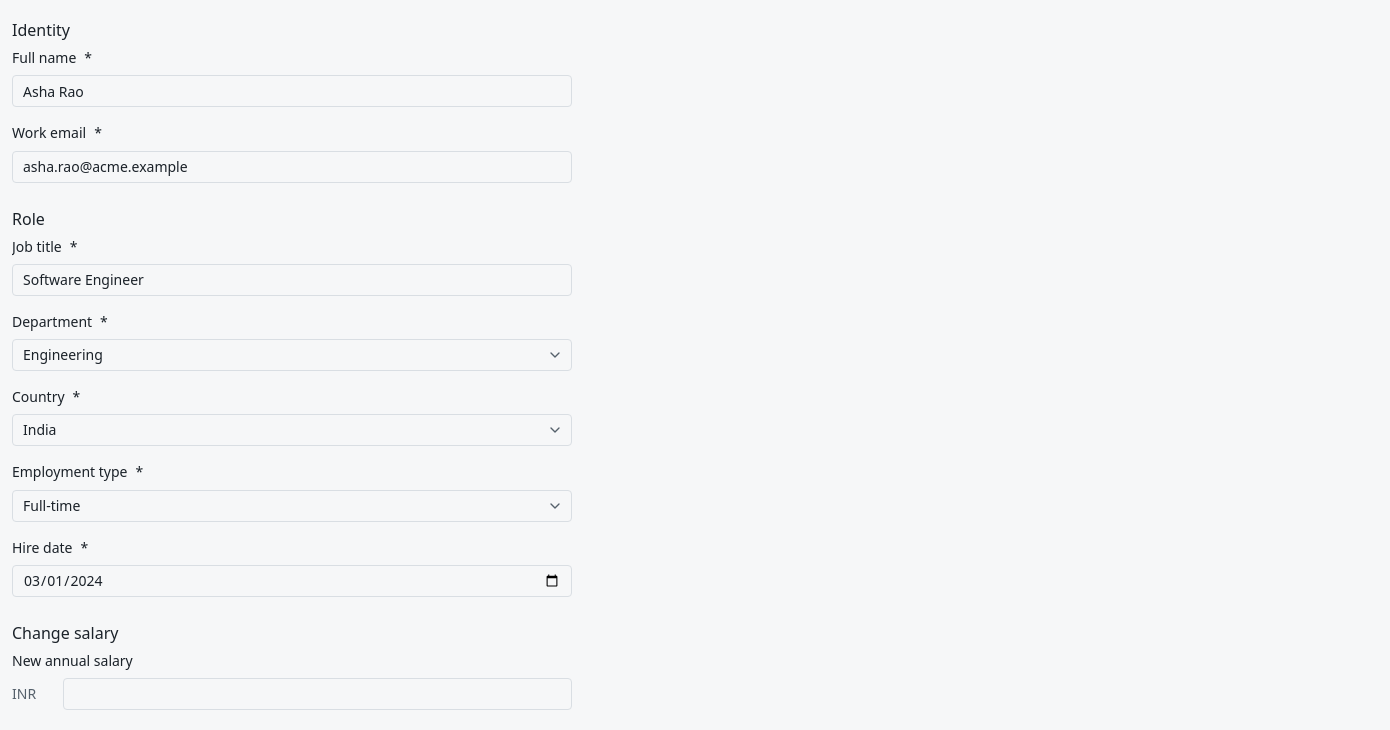
EditEmployeePage › sends only the changed fields and opens the employee on success
Replace the text in the field labelled "Job title *" with "Staff Engineer" at (292, 280), box [12, 264, 572, 296]
(page scrolled)
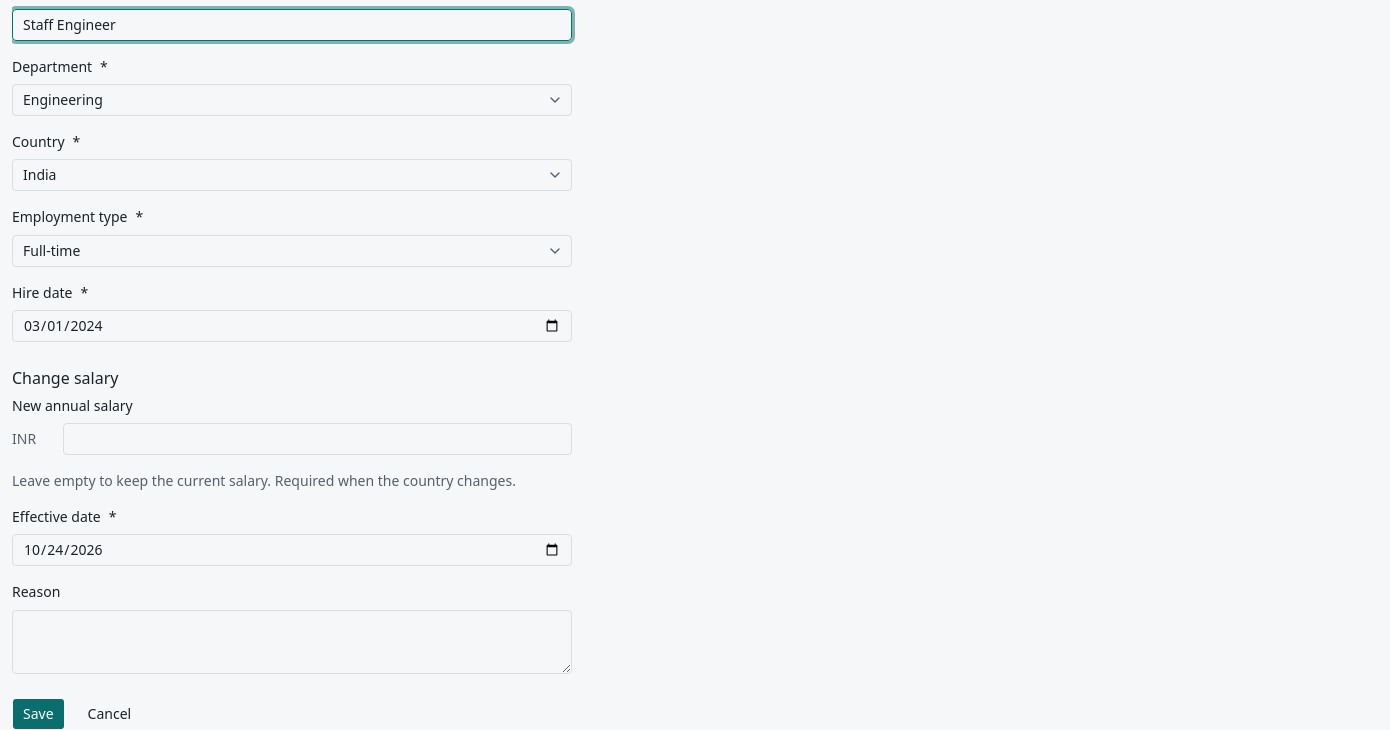
Click the button "Save" at (38, 714), box [12, 698, 65, 729]
(page scrolled)
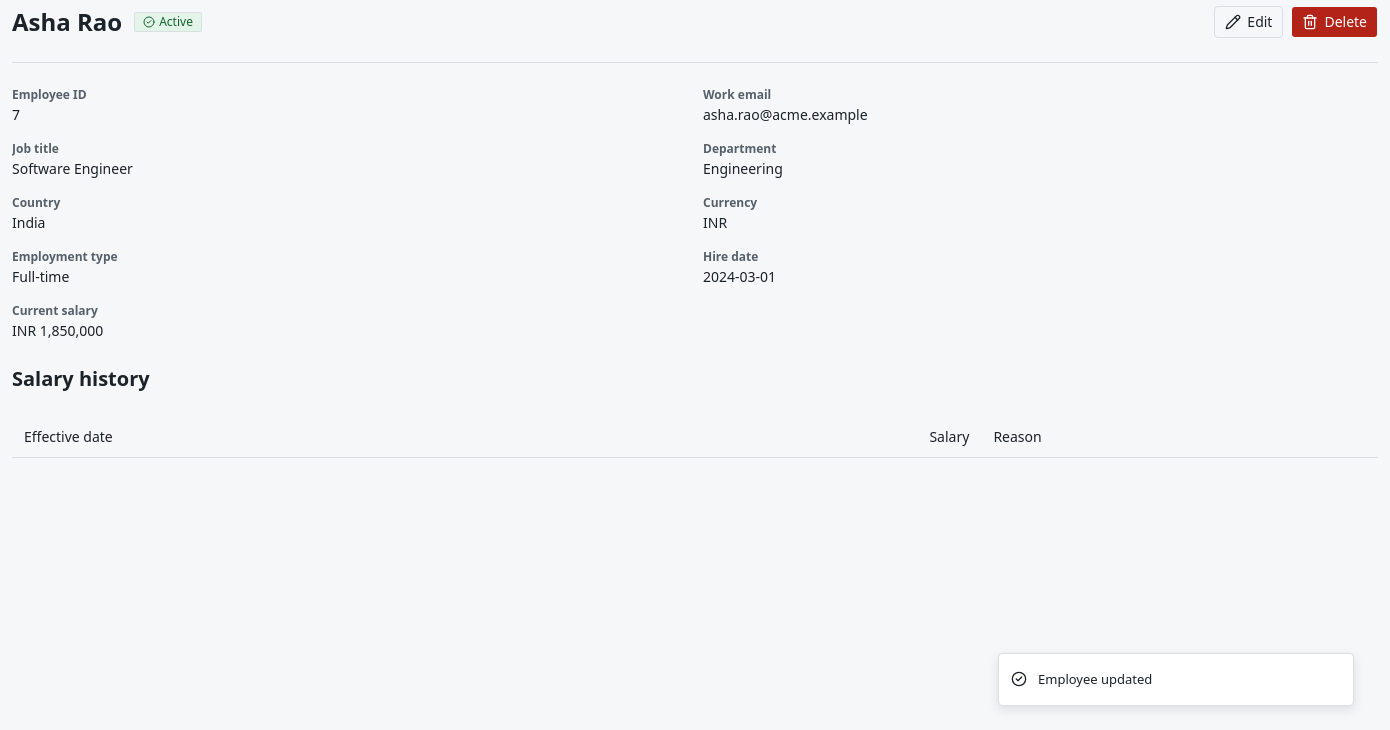
expect the heading "Asha Rao" is shown: met, box [12, 6, 122, 38]
expect the text "Employee updated" is shown: met, box [1038, 670, 1152, 689]
